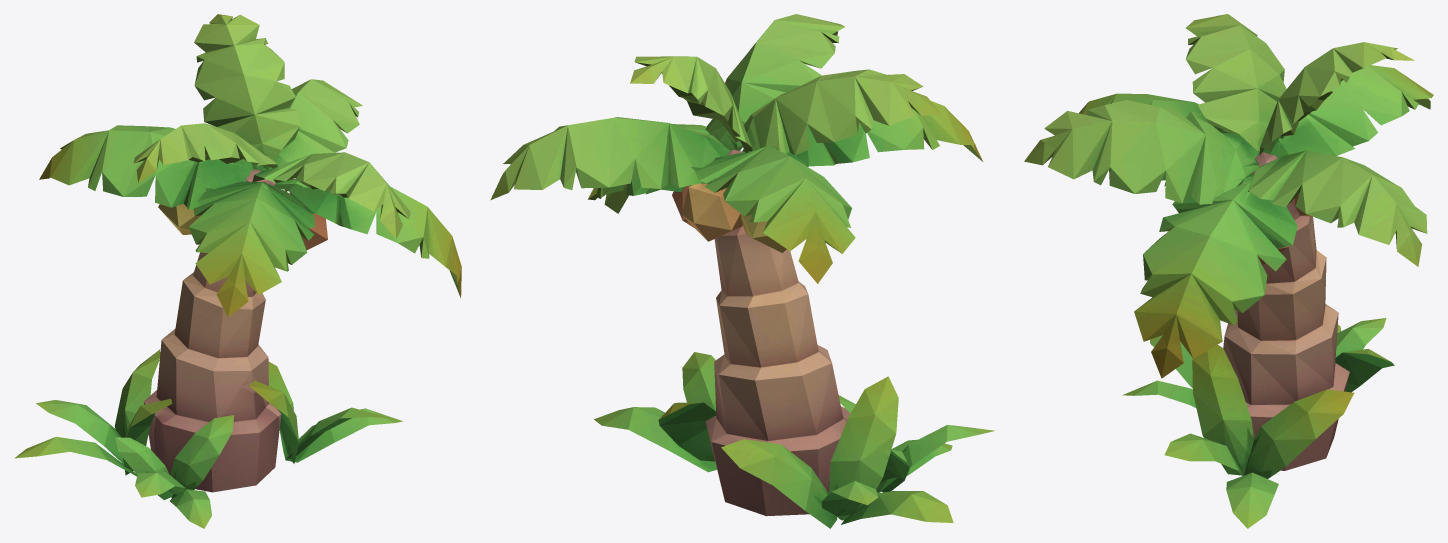
Rendered from Props.fbx.
3 views of the same model, side by side, from view 1: azimuth 30°, elevation 25°; view 2: azimuth 150°, elevation 25°; view 3: azimuth 270°, elevation 25° (orthographic). The views are drawn at different scales.
Visible parts, largest first — view 1: yezishu02; view 2: yezishu02; view 3: yezishu02.
Part boxes in pixels (left/top/right/bottom): yezishu02: left=14, top=14, right=461, bottom=528; yezishu02: left=490, top=14, right=994, bottom=528; yezishu02: left=1024, top=14, right=1433, bottom=528.
Size of the model in its own units: 7.45 by 7.58 by 6.46.
